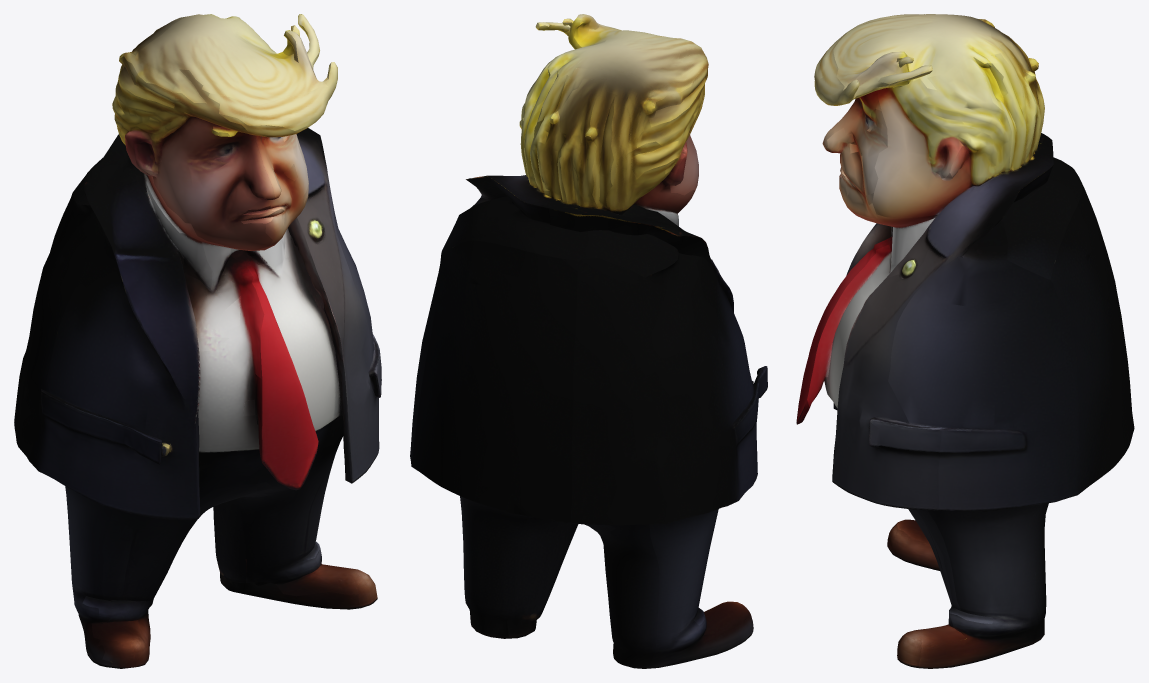
The model's file is donald_trump.glb.
3 renders of one model, left to right at view 1: azimuth 30°, elevation 25°; view 2: azimuth 150°, elevation 25°; view 3: azimuth 270°, elevation 25°, orthographic. The views are drawn at different scales.
Parts seen in each view (by area): view 1: world; view 2: world; view 3: world.
Part boxes in pixels (<box>): world: <box>14,14,381,668</box>; world: <box>410,14,767,668</box>; world: <box>796,14,1134,668</box>.
Size of the model in its own units: 0.5533 by 0.9992 by 0.5311.
1 material, 1 textured.
